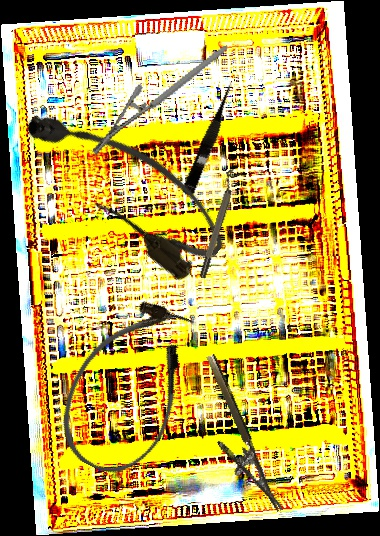Cannula: (13, 79, 239, 289), (41, 284, 216, 490)
Fixation Ring: (192, 167, 243, 280)
Micro Scissor: (180, 78, 241, 199)
Needle Holder: (73, 45, 247, 156), (185, 353, 283, 523)
